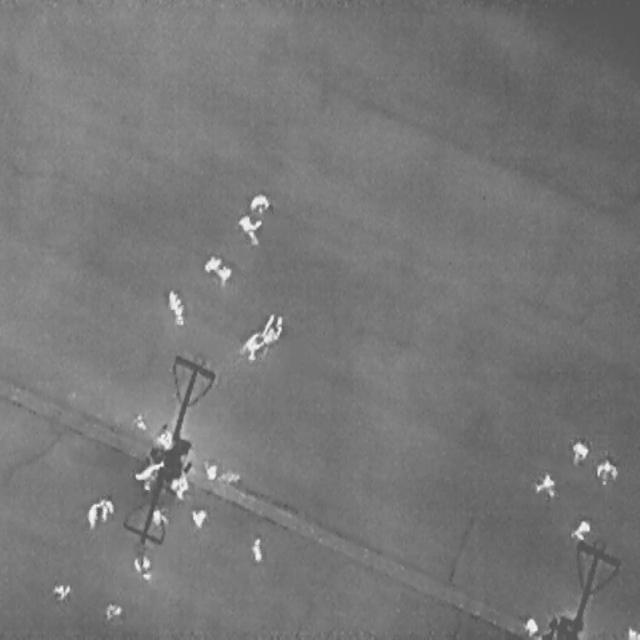Person: (233, 204, 268, 252), (566, 511, 595, 550), (131, 458, 163, 490), (566, 433, 590, 472), (261, 314, 281, 354), (595, 454, 618, 486), (532, 470, 555, 498), (240, 330, 260, 362), (129, 555, 151, 580), (97, 494, 114, 524), (249, 190, 272, 212), (169, 472, 187, 498), (522, 612, 538, 638), (155, 426, 173, 449), (200, 458, 217, 482), (102, 600, 122, 620), (150, 504, 168, 526), (86, 502, 99, 530), (52, 582, 71, 600), (189, 508, 206, 528), (216, 266, 233, 285), (249, 538, 263, 560), (202, 254, 220, 271), (167, 286, 178, 309), (173, 304, 185, 324), (133, 412, 147, 428), (625, 625, 638, 635)
